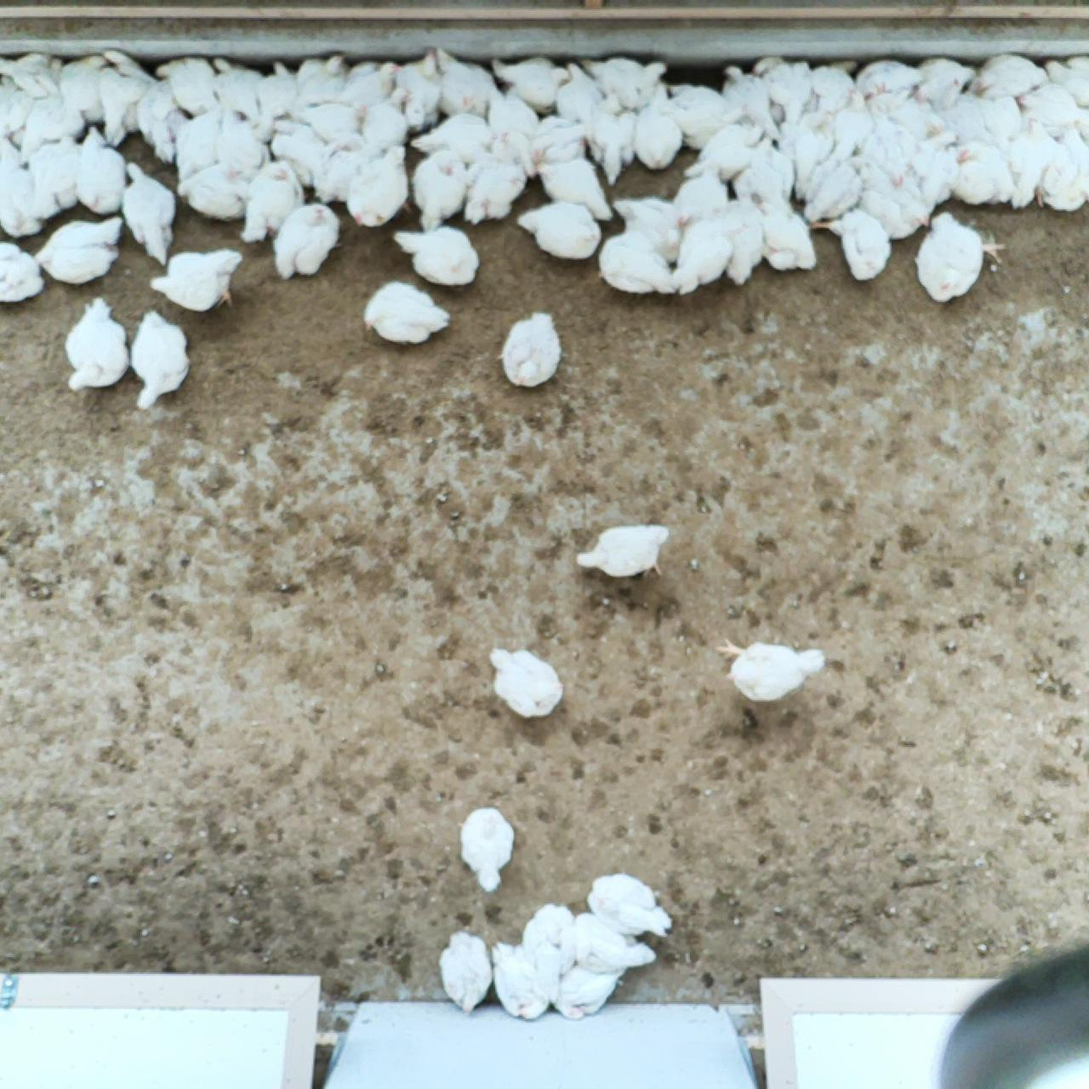chicken: (913, 208, 1006, 304), (713, 640, 831, 704), (60, 292, 132, 394), (128, 305, 195, 409), (805, 206, 894, 283), (145, 243, 243, 312), (119, 160, 181, 268), (100, 45, 165, 148), (34, 213, 127, 284), (662, 76, 743, 153), (854, 160, 935, 237), (389, 223, 483, 289), (361, 276, 450, 345), (573, 520, 674, 580), (668, 216, 747, 292), (345, 144, 414, 231), (1002, 115, 1063, 213), (239, 159, 309, 244), (486, 645, 565, 720), (270, 201, 344, 281), (483, 940, 557, 1018), (586, 872, 676, 935), (579, 53, 666, 117), (569, 912, 660, 972), (515, 198, 603, 260), (597, 230, 678, 297), (459, 804, 516, 897), (583, 86, 638, 182), (711, 199, 776, 280), (72, 119, 127, 214), (486, 54, 574, 113), (407, 147, 468, 232), (28, 131, 83, 225), (459, 150, 527, 226), (136, 74, 194, 163), (781, 105, 839, 194), (802, 149, 869, 225), (536, 154, 613, 220), (499, 311, 564, 389), (754, 190, 815, 273), (949, 133, 1016, 208), (438, 926, 494, 1015), (173, 102, 235, 182), (171, 158, 252, 219), (610, 193, 686, 258), (855, 108, 920, 184), (14, 93, 87, 159), (409, 112, 505, 162), (553, 964, 637, 1021), (724, 64, 781, 147), (392, 46, 446, 133), (681, 119, 762, 177), (436, 46, 497, 123), (323, 58, 405, 115), (53, 48, 114, 124), (313, 134, 380, 202), (750, 53, 814, 123), (911, 129, 967, 209), (521, 901, 579, 977), (269, 117, 330, 188), (151, 55, 223, 113), (1041, 124, 1089, 211), (249, 57, 300, 138), (285, 48, 347, 114), (0, 47, 72, 103), (869, 91, 949, 141), (966, 52, 1049, 100), (525, 112, 591, 171), (1015, 79, 1089, 130), (631, 92, 678, 171), (482, 81, 538, 147), (216, 111, 270, 179), (208, 51, 262, 119), (905, 55, 982, 102), (0, 159, 45, 239), (930, 88, 991, 146), (737, 147, 788, 215), (827, 83, 874, 156), (360, 85, 415, 147), (671, 164, 729, 222), (802, 61, 861, 117), (553, 55, 601, 121), (855, 57, 927, 101), (486, 119, 537, 181), (289, 96, 370, 135), (746, 131, 796, 194), (0, 238, 45, 303), (1038, 53, 1089, 107), (0, 76, 41, 136), (976, 90, 1023, 140), (0, 133, 34, 173)
